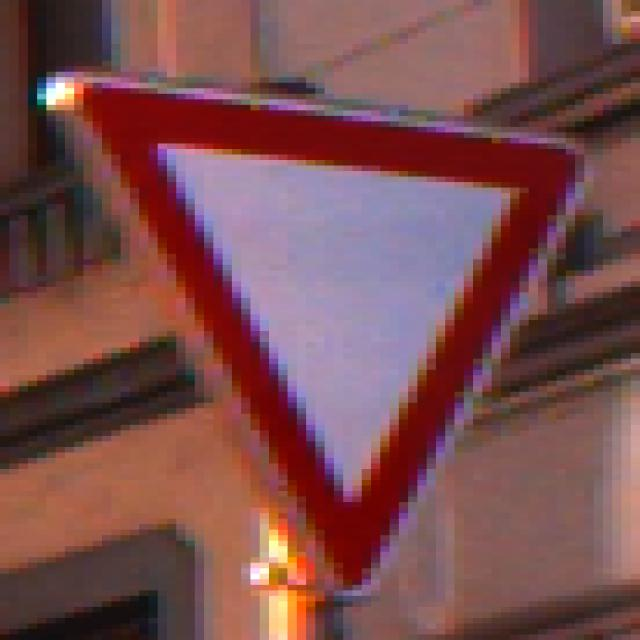Give Way: (57, 62, 585, 586)
